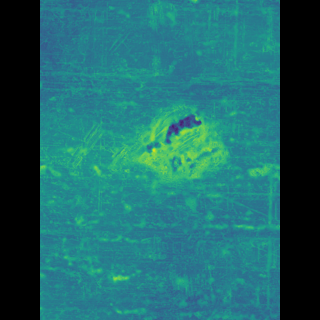Loch: (136, 106, 209, 187), (110, 141, 136, 216), (88, 126, 118, 167)
